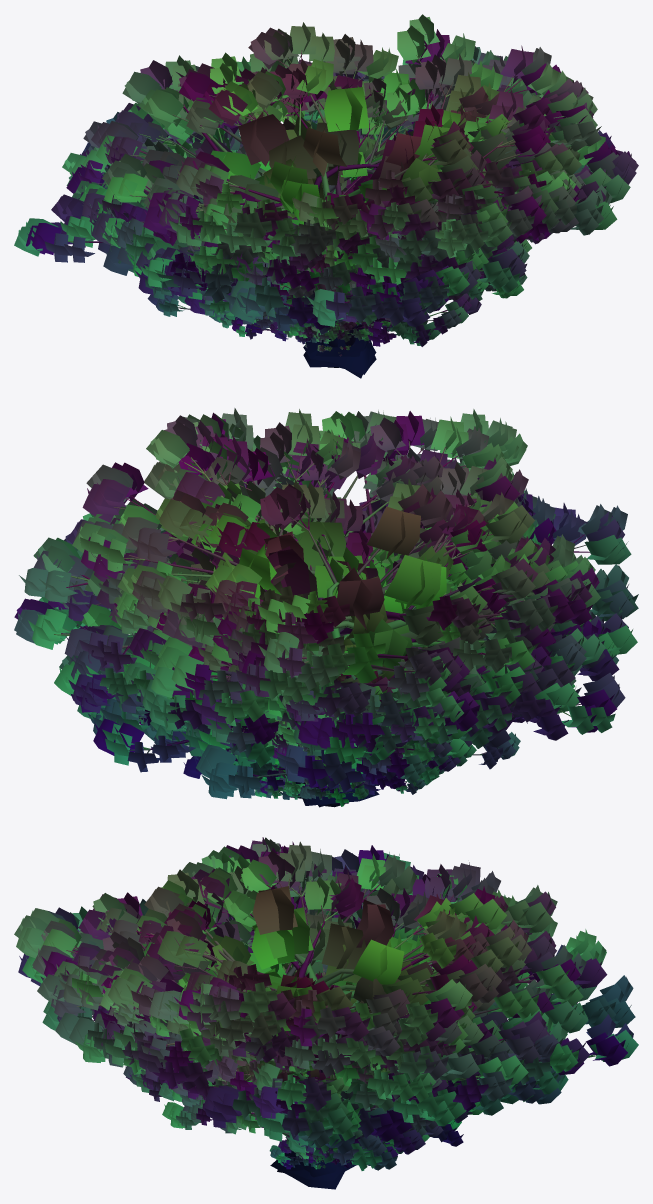
The model's file is trees_olive.glb.
The picture shows the model from 3 angles, top to bottom: view 1: azimuth 30°, elevation 25°; view 2: azimuth 150°, elevation 25°; view 3: azimuth 270°, elevation 25°; orthographic projection. The views are drawn at different scales.
Visible parts, largest first — view 1: olive_ancient_04_LOD0, olive_ancient_03_LOD0, olive_ancient_02_LOD0, olive_ancient_01_LOD0, olive_mature_02_LOD0, olive_mature_04_LOD0, olive_mature_03_LOD0, olive_young_04_LOD0, olive_young_03_LOD0; view 2: olive_ancient_04_LOD0, olive_ancient_03_LOD0, olive_ancient_02_LOD0, olive_ancient_01_LOD0, olive_mature_04_LOD0, olive_mature_03_LOD0, olive_mature_02_LOD0, olive_young_03_LOD0, olive_mature_01_LOD0, olive_young_02_LOD0; view 3: olive_ancient_03_LOD0, olive_ancient_04_LOD0, olive_ancient_02_LOD0, olive_ancient_01_LOD0, olive_mature_04_LOD0, olive_mature_02_LOD0, olive_mature_03_LOD0, olive_young_02_LOD0.
Boxes of the visible parts, <box> form: olive_ancient_04_LOD0: <box>66,14,601,374</box>; olive_ancient_03_LOD0: <box>87,22,638,378</box>; olive_ancient_02_LOD0: <box>14,46,615,373</box>; olive_ancient_01_LOD0: <box>62,77,592,351</box>; olive_mature_02_LOD0: <box>147,190,527,346</box>; olive_mature_04_LOD0: <box>202,127,552,323</box>; olive_mature_03_LOD0: <box>189,178,488,331</box>; olive_young_04_LOD0: <box>254,320,390,343</box>; olive_young_03_LOD0: <box>209,312,362,339</box>; olive_ancient_04_LOD0: <box>72,408,638,805</box>; olive_ancient_03_LOD0: <box>54,409,631,785</box>; olive_ancient_02_LOD0: <box>14,427,625,807</box>; olive_ancient_01_LOD0: <box>62,430,555,766</box>; olive_mature_04_LOD0: <box>132,589,472,784</box>; olive_mature_03_LOD0: <box>130,582,525,807</box>; olive_mature_02_LOD0: <box>225,670,520,783</box>; olive_young_03_LOD0: <box>275,755,444,806</box>; olive_mature_01_LOD0: <box>272,720,405,794</box>; olive_young_02_LOD0: <box>255,764,384,799</box>; olive_ancient_03_LOD0: <box>14,837,638,1177</box>; olive_ancient_04_LOD0: <box>18,837,635,1189</box>; olive_ancient_02_LOD0: <box>40,845,607,1180</box>; olive_ancient_01_LOD0: <box>100,894,521,1158</box>; olive_mature_04_LOD0: <box>143,963,425,1170</box>; olive_mature_02_LOD0: <box>123,967,443,1156</box>; olive_mature_03_LOD0: <box>158,1054,463,1148</box>; olive_young_02_LOD0: <box>269,1139,323,1169</box>.
Size of what is drawn, in the model's own units: 24.98 by 11.98 by 24.27.
